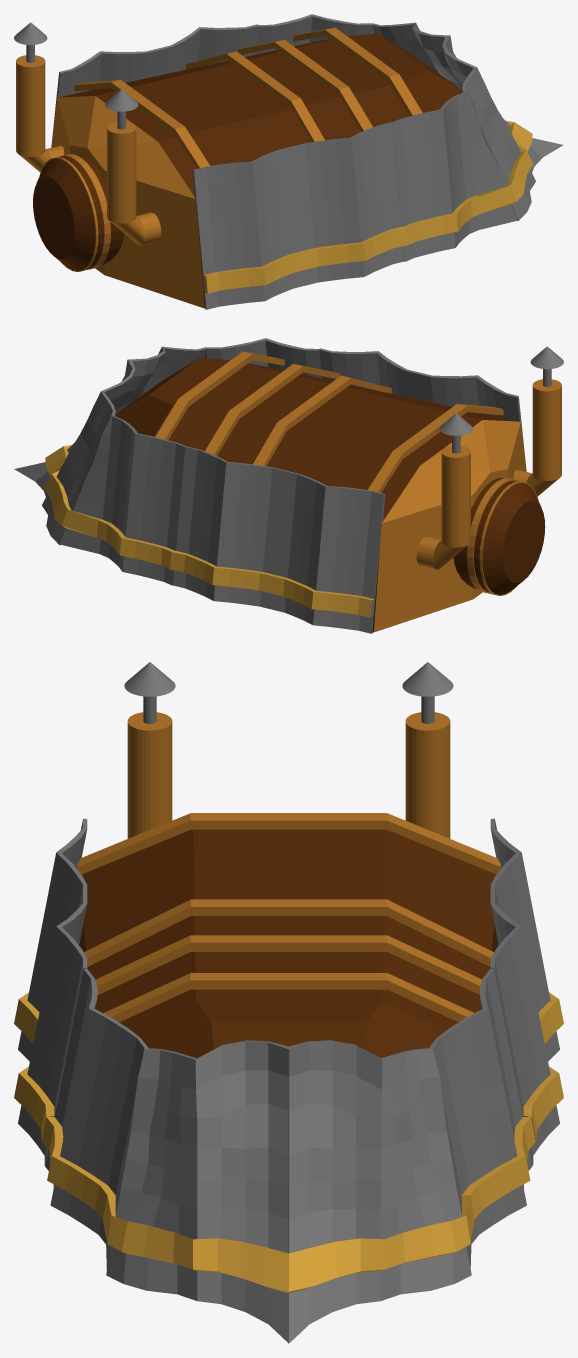
Rendered from TankMagiqueBody.fbx.
The picture shows the model from 3 angles, top to bottom: view 1: azimuth 30°, elevation 25°; view 2: azimuth 150°, elevation 25°; view 3: azimuth 270°, elevation 25°; orthographic projection. The views are drawn at different scales.
Visible parts, largest first — view 1: MagieBody; view 2: MagieBody; view 3: MagieBody.
Boxes of the visible parts, x1,y1,x2,y2 form: MagieBody: (14, 14, 563, 309); MagieBody: (14, 338, 563, 633); MagieBody: (14, 662, 563, 1343).
Bounding box in the file's own units: 1027 × 413 × 628.
